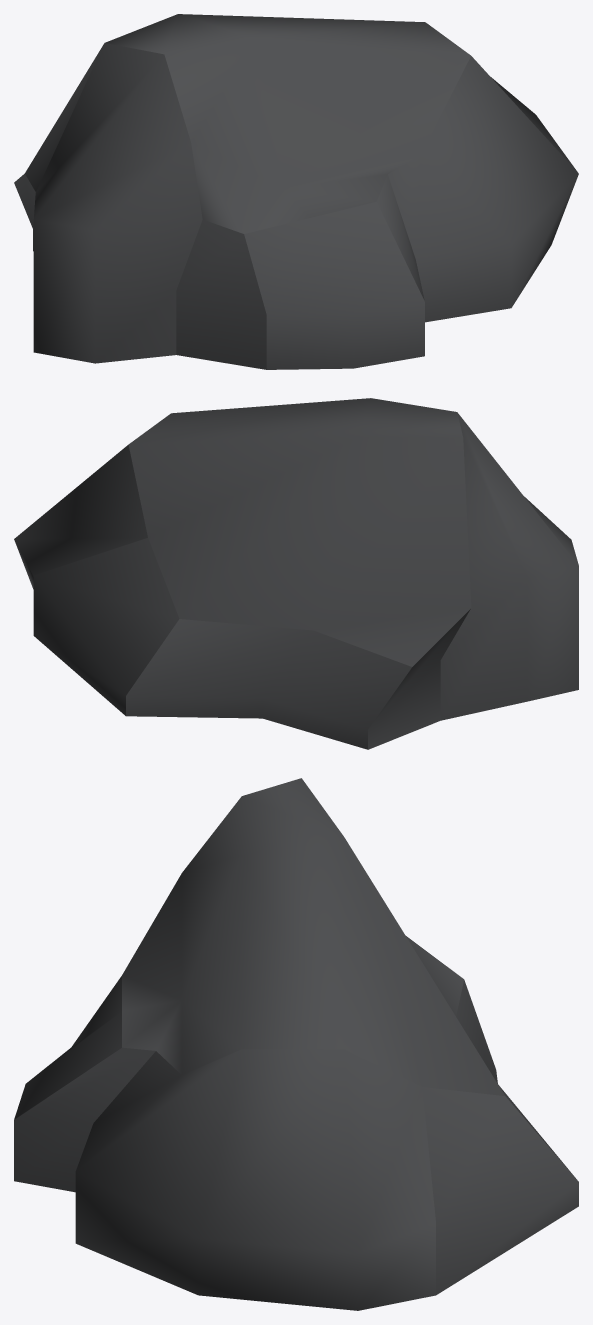
Rendered from Rock 2 Textured.FBX.
3 views of the same model, one above another, from view 1: azimuth 30°, elevation 25°; view 2: azimuth 150°, elevation 25°; view 3: azimuth 270°, elevation 25° (orthographic). The views are drawn at different scales.
Visible parts, largest first — view 1: Rock 2; view 2: Rock 2; view 3: Rock 2.
Boxes of the visible parts, x1,y1,x2,y2 form: Rock 2: (14,14,578,369); Rock 2: (14,398,578,749); Rock 2: (14,778,578,1310).
Size of the model in its own units: 10.73 by 5.09 by 8.46.
1 material, 1 textured.
